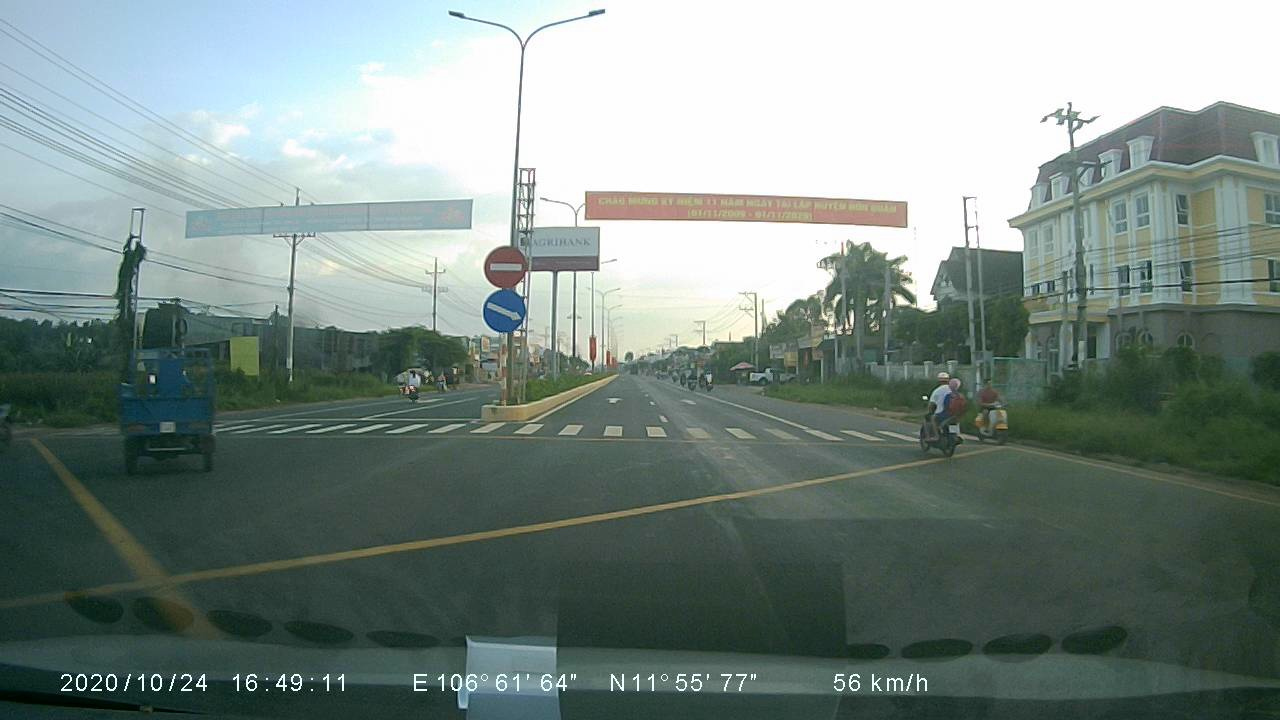Cam di nguoc chieu: (482, 244, 529, 289)
Huong di phai re phai: (480, 288, 532, 333)
